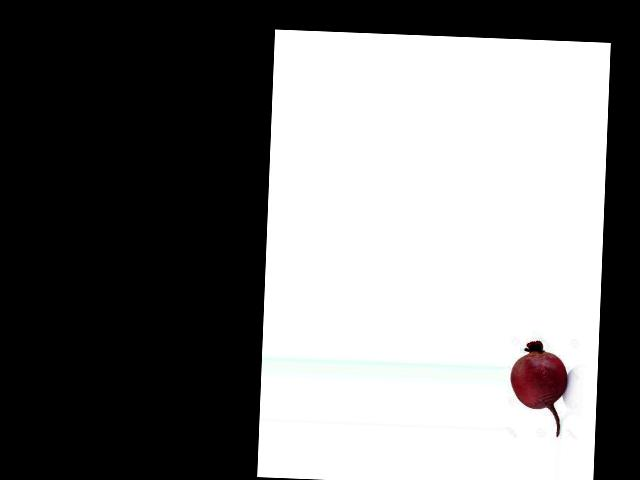beet: (509, 340, 569, 437)
